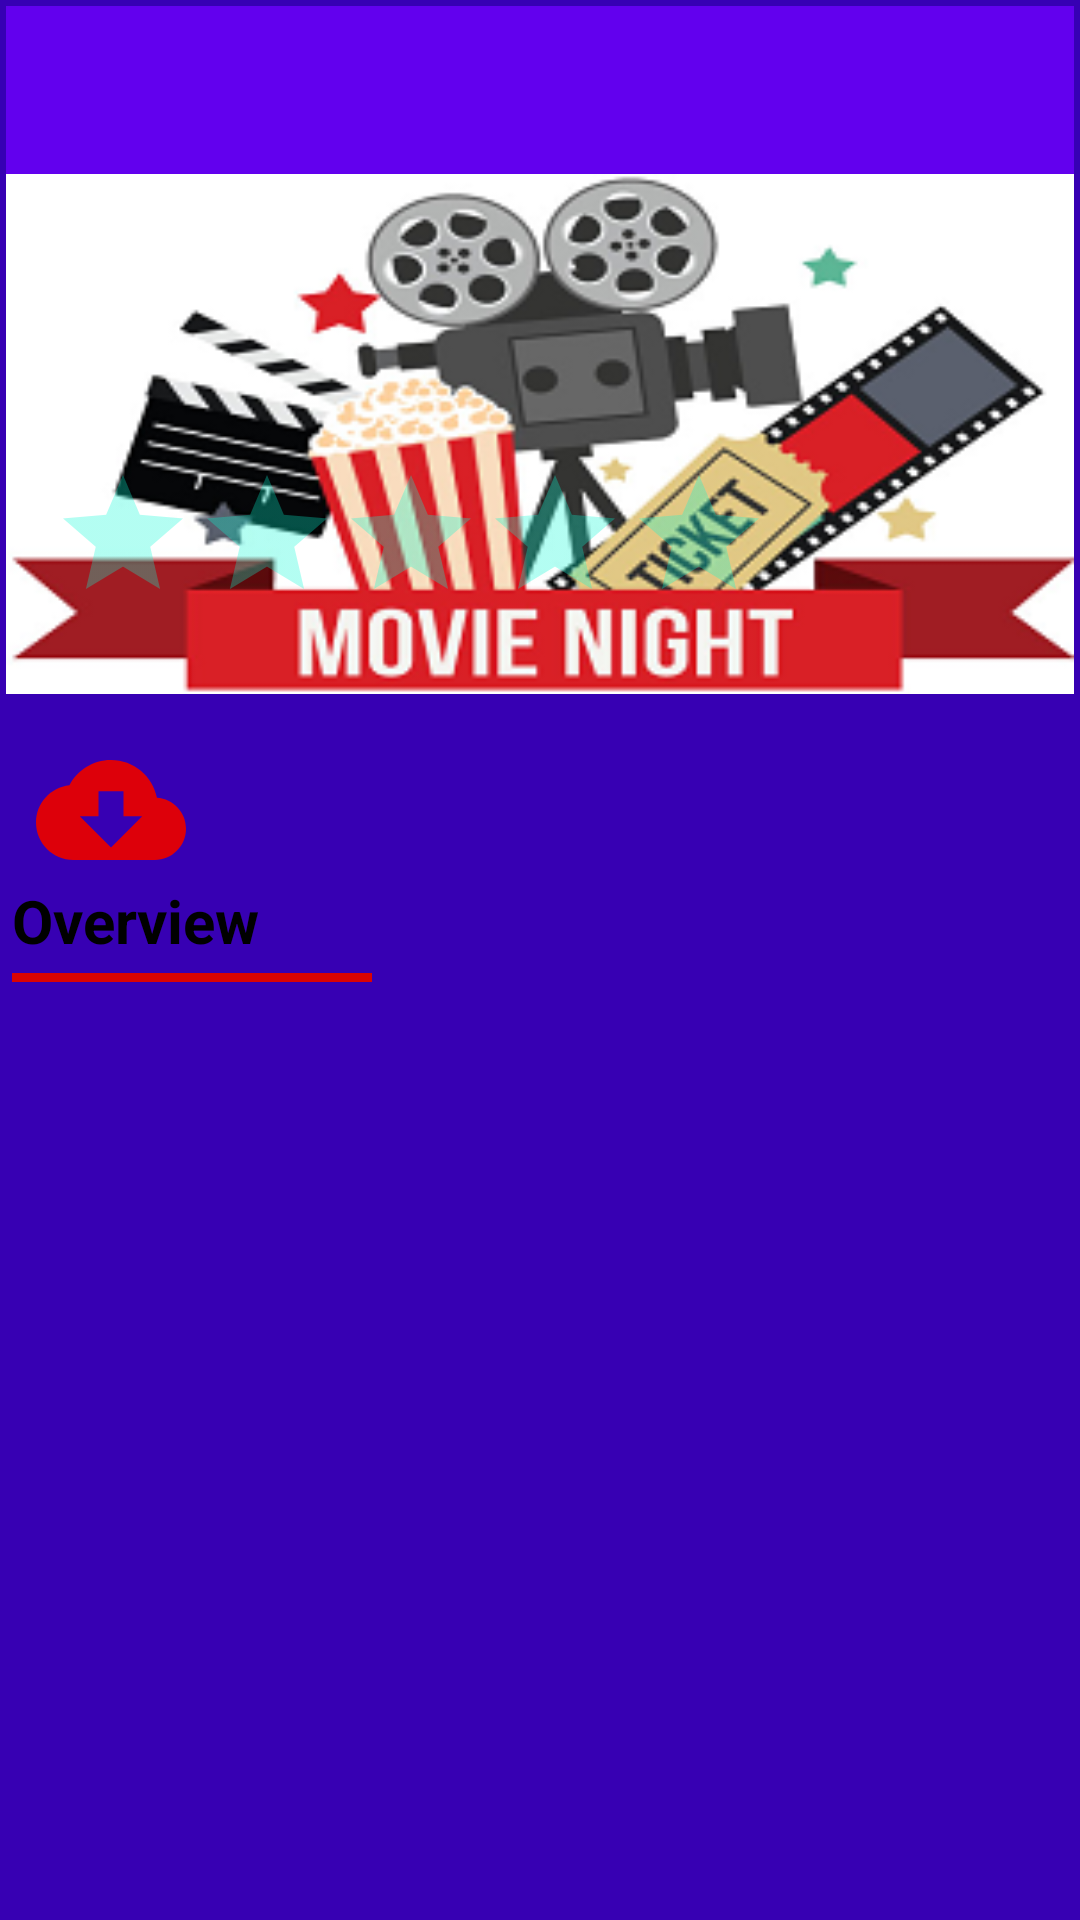

Icons on this 1080w x 1920h Android screen, each with the point to tap as point (x, y):
cloud download: point (111, 810)
